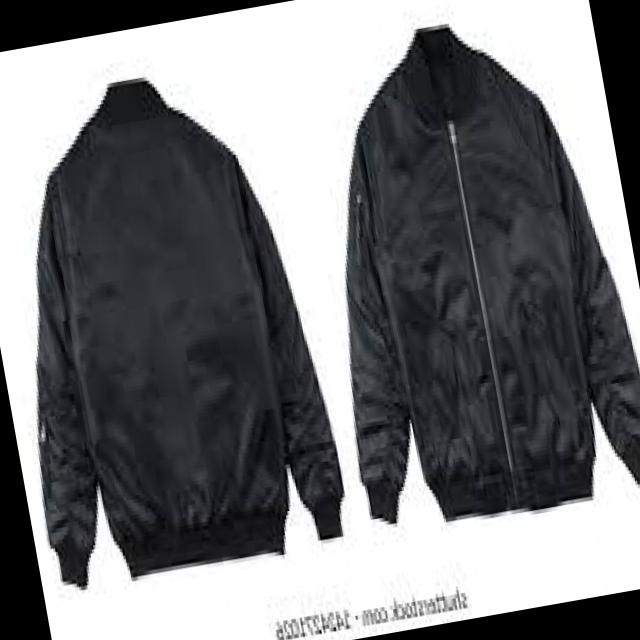Jacket: (0, 46, 340, 613), (302, 10, 640, 532)
